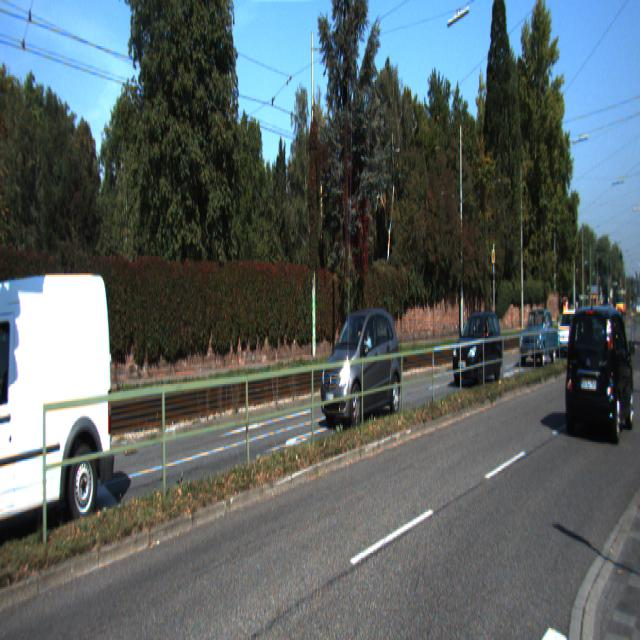Car: (0, 256, 119, 555), (322, 306, 404, 435), (565, 298, 636, 444), (452, 308, 505, 388), (518, 308, 558, 366), (556, 306, 587, 358)
